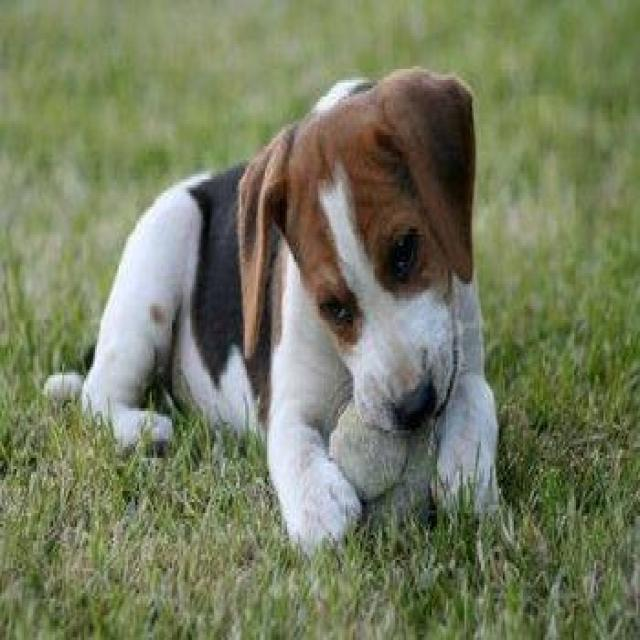beagle: (42, 69, 501, 565)
